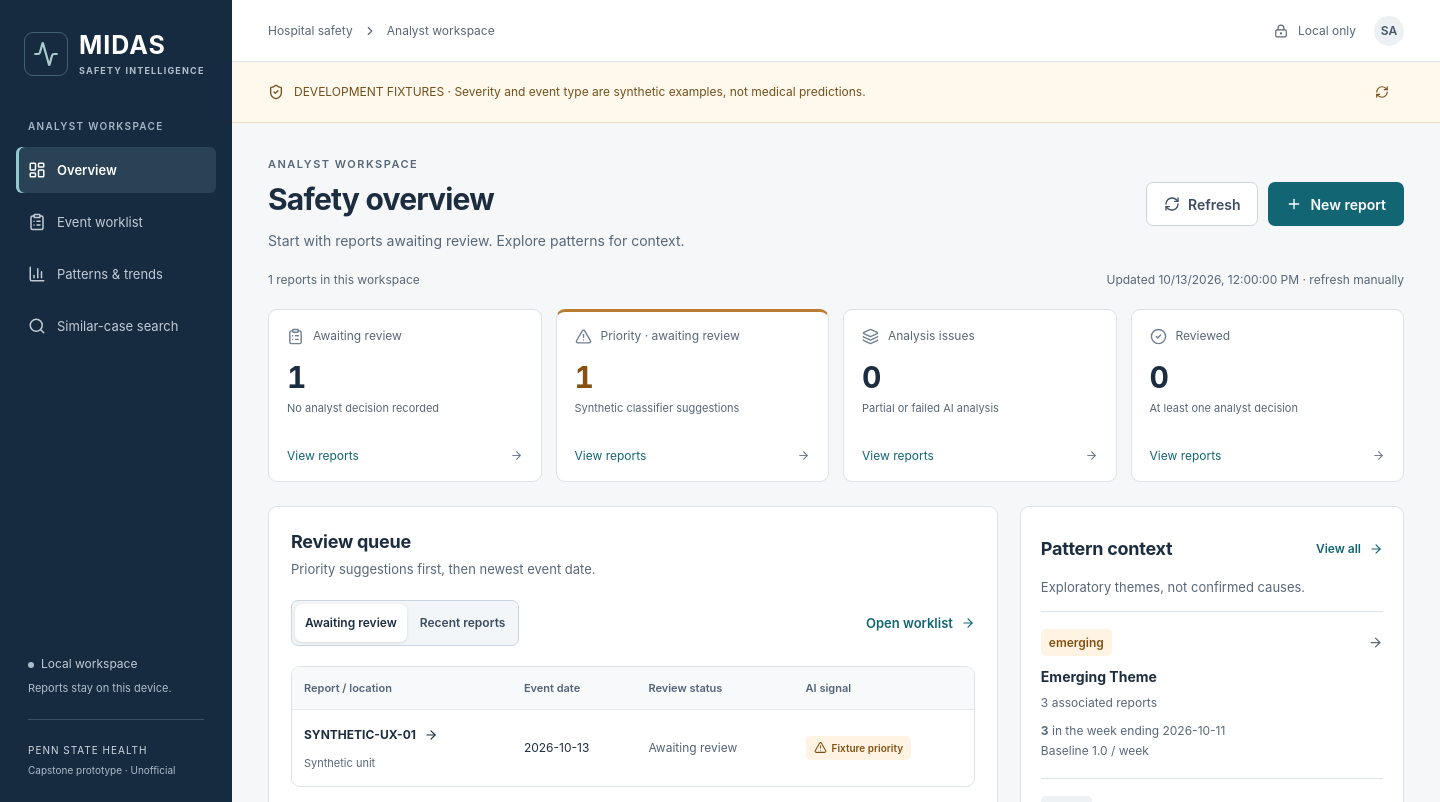
analyst UX regression checks › opens the matching global worklist filter from a dashboard metric
This screenshot has width=1440, height=802.
Check: the link "SYNTHETIC-UX-01" is shown, box [304,724,438,745]
Click the link "Priority · awaiting review": (670, 335) [556,309,829,482]
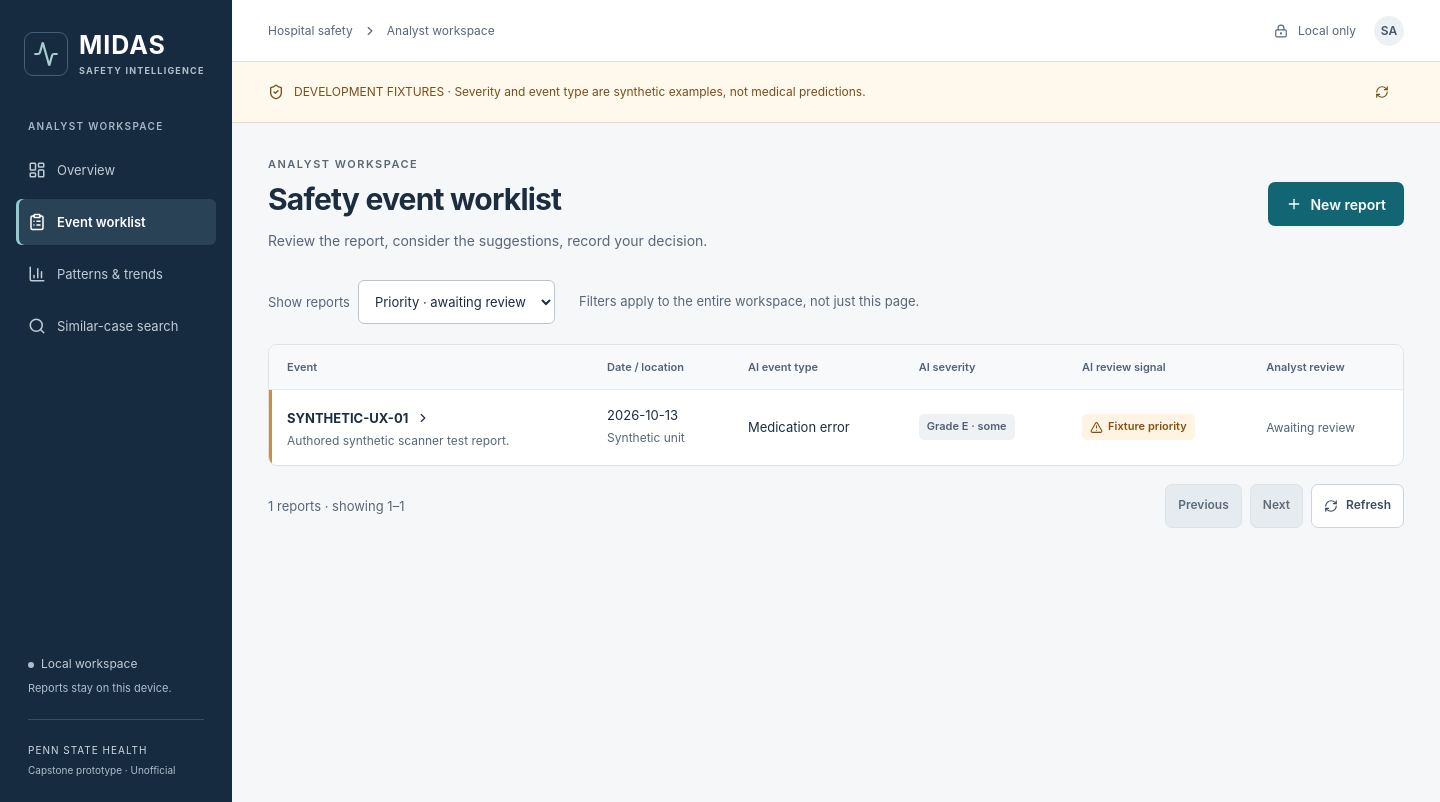
Check: the dropdown labelled "Show reports" shows "Priority · awaiting review", box [358,280,555,324]
